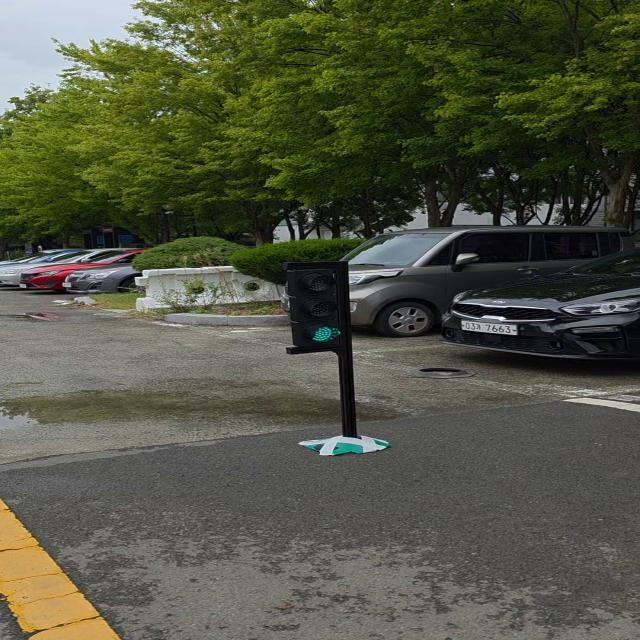green: (288, 262, 351, 351)
